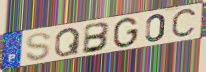0: (145, 13, 167, 43)
B: (81, 21, 113, 55)
C: (170, 6, 199, 41)
G: (112, 17, 140, 50)
Q: (53, 26, 82, 58)
S: (24, 32, 52, 62)
